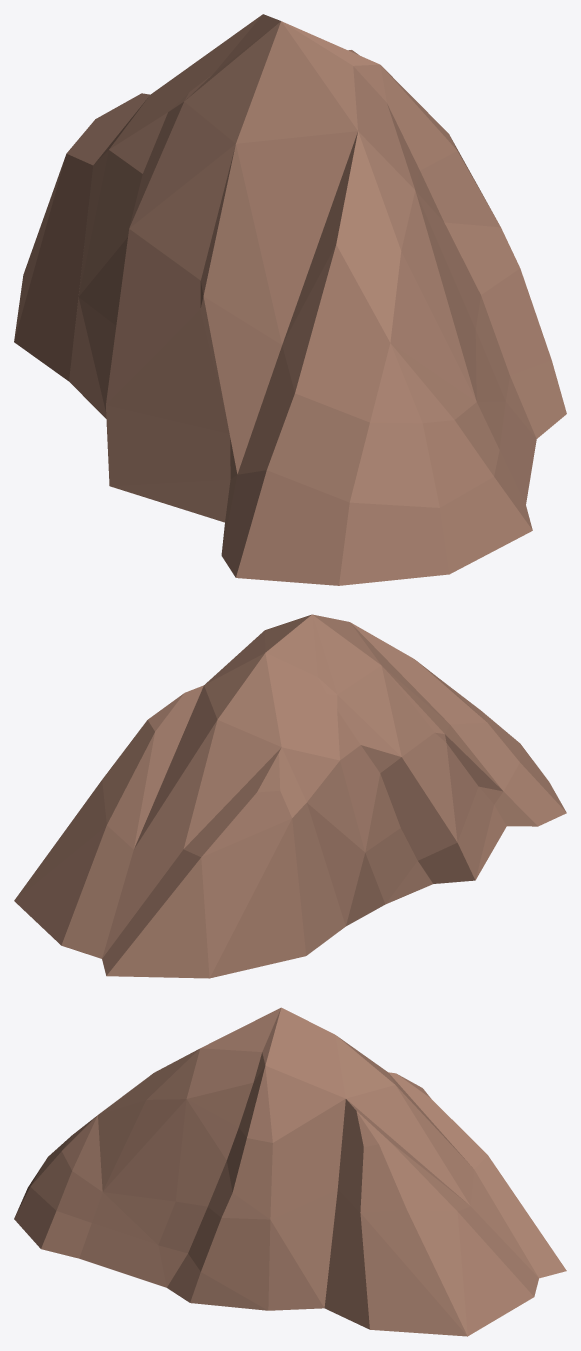
The model's file is Desert_Rock_B.fbx.
3 renders of one model, top to bottom at view 1: azimuth 30°, elevation 25°; view 2: azimuth 150°, elevation 25°; view 3: azimuth 270°, elevation 25°, orthographic. The views are drawn at different scales.
Visible parts, largest first — view 1: Desert_Rock_B.002; view 2: Desert_Rock_B.002; view 3: Desert_Rock_B.002.
Part boxes in pixels (x1,y1,x2,y2): Desert_Rock_B.002: (14, 14, 566, 585); Desert_Rock_B.002: (14, 614, 566, 978); Desert_Rock_B.002: (14, 1007, 566, 1336).
Size of the model in its own units: 2094 by 1538 by 3203.
